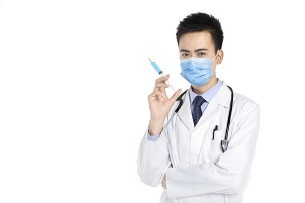Mask: (177, 49, 214, 86)
